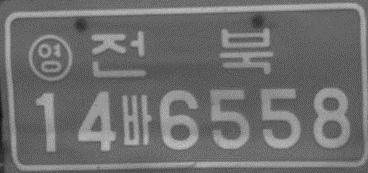1: (29, 91, 68, 153)
4: (76, 92, 116, 152)
5: (260, 87, 302, 150), (208, 88, 250, 150)
6: (159, 89, 198, 150)
8: (311, 86, 352, 150)
바: (120, 94, 152, 146)
영: (26, 32, 73, 83)
전북_D: (89, 25, 273, 78)
